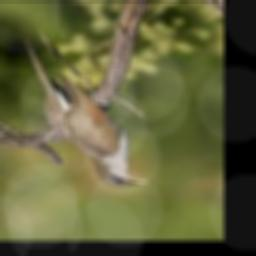Cuckoo: (24, 41, 152, 188)
